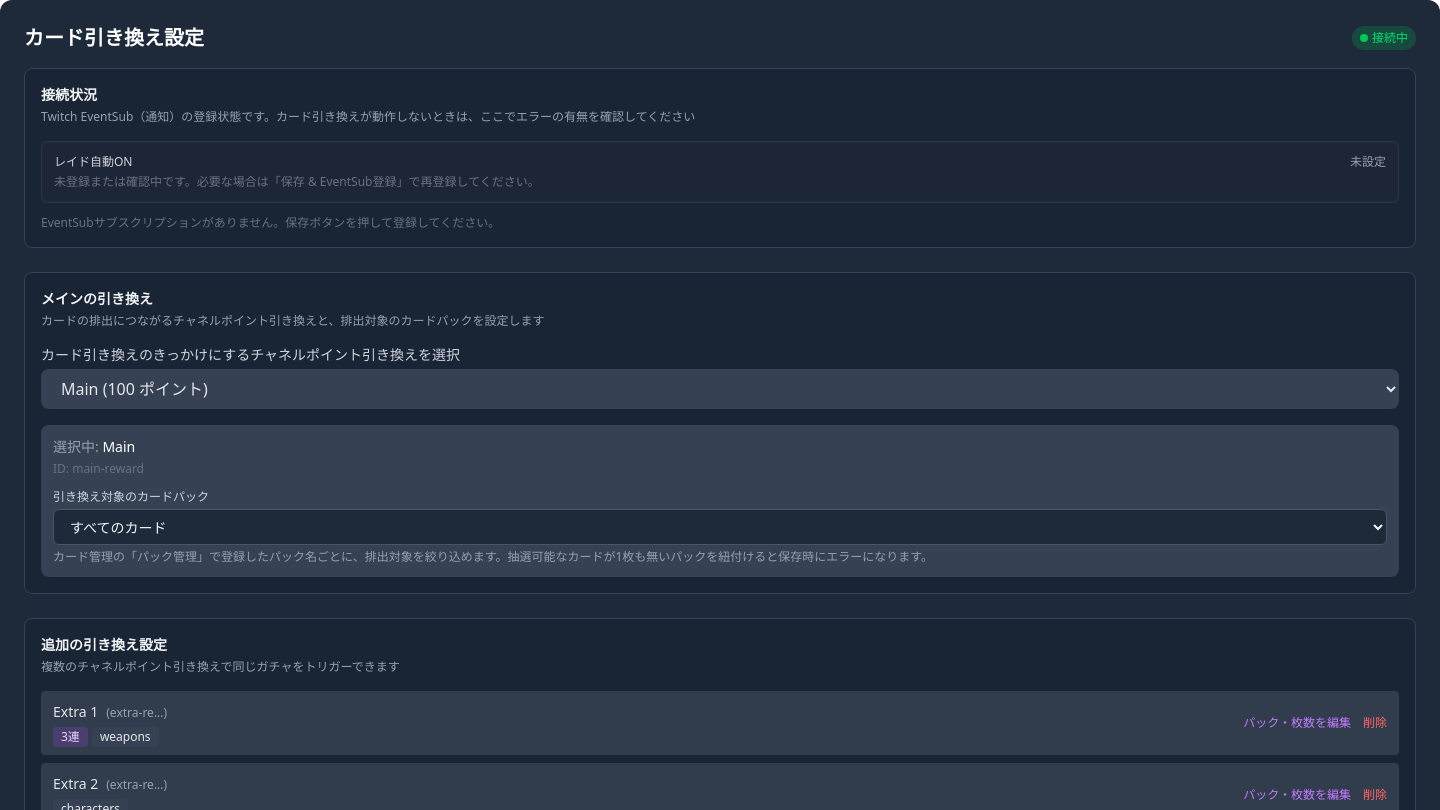
Test case: ChannelPointSettings additional-reward edit race › keeps a newly opened reward editor when an earlier PUT finishes with 404
The image size is (1440, 810).
Click the button with aria-label "Extra 1のパック・枚数を編集".
click(1297, 723)  # box x1=1243 y1=715 x2=1351 y2=731
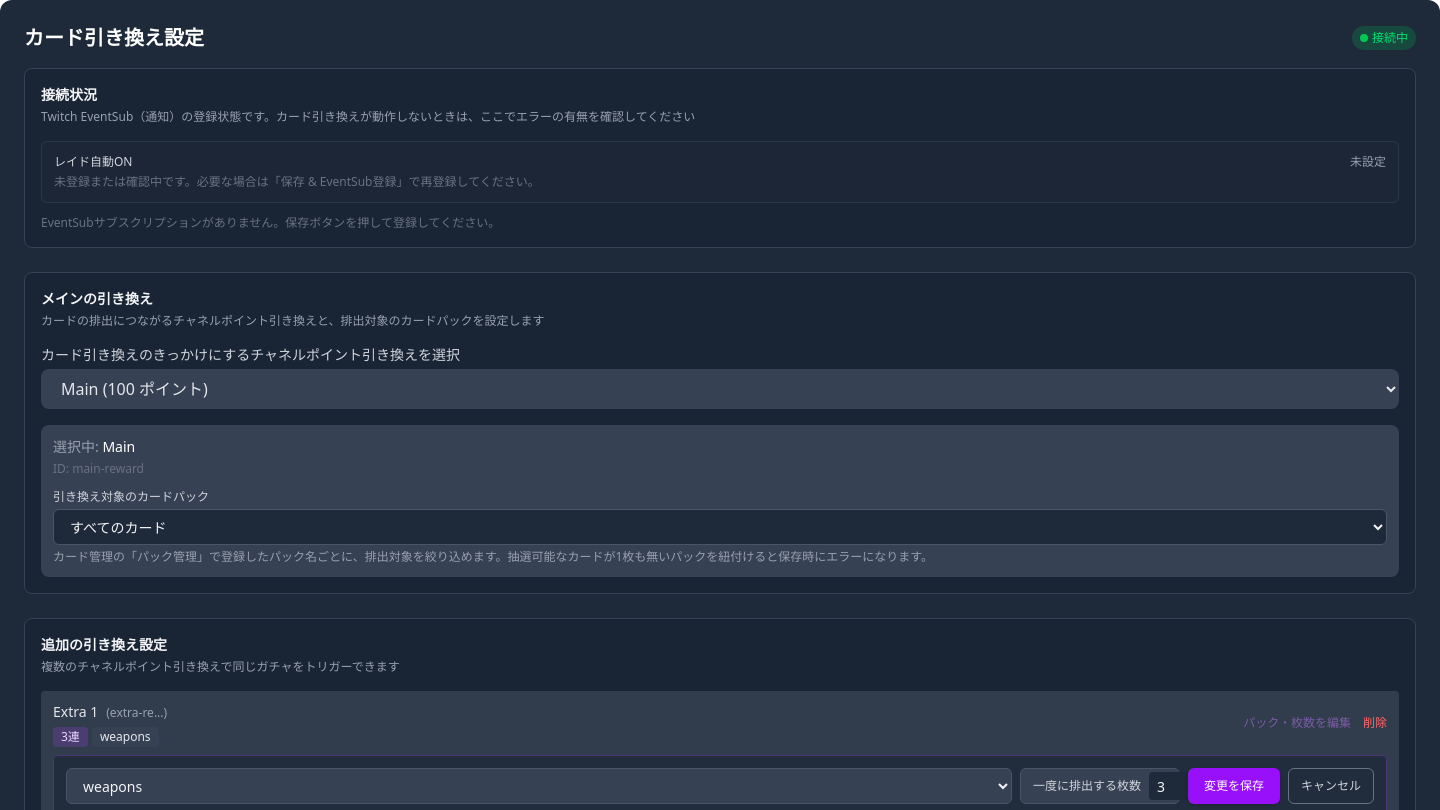
Expected: the dropdown named "編集する引き換えのカードパック" is shown, x1=66 y1=768 x2=1012 y2=804
Click the button "変更を保存".
click(1234, 786)  # box x1=1188 y1=768 x2=1280 y2=804
(page scrolled)
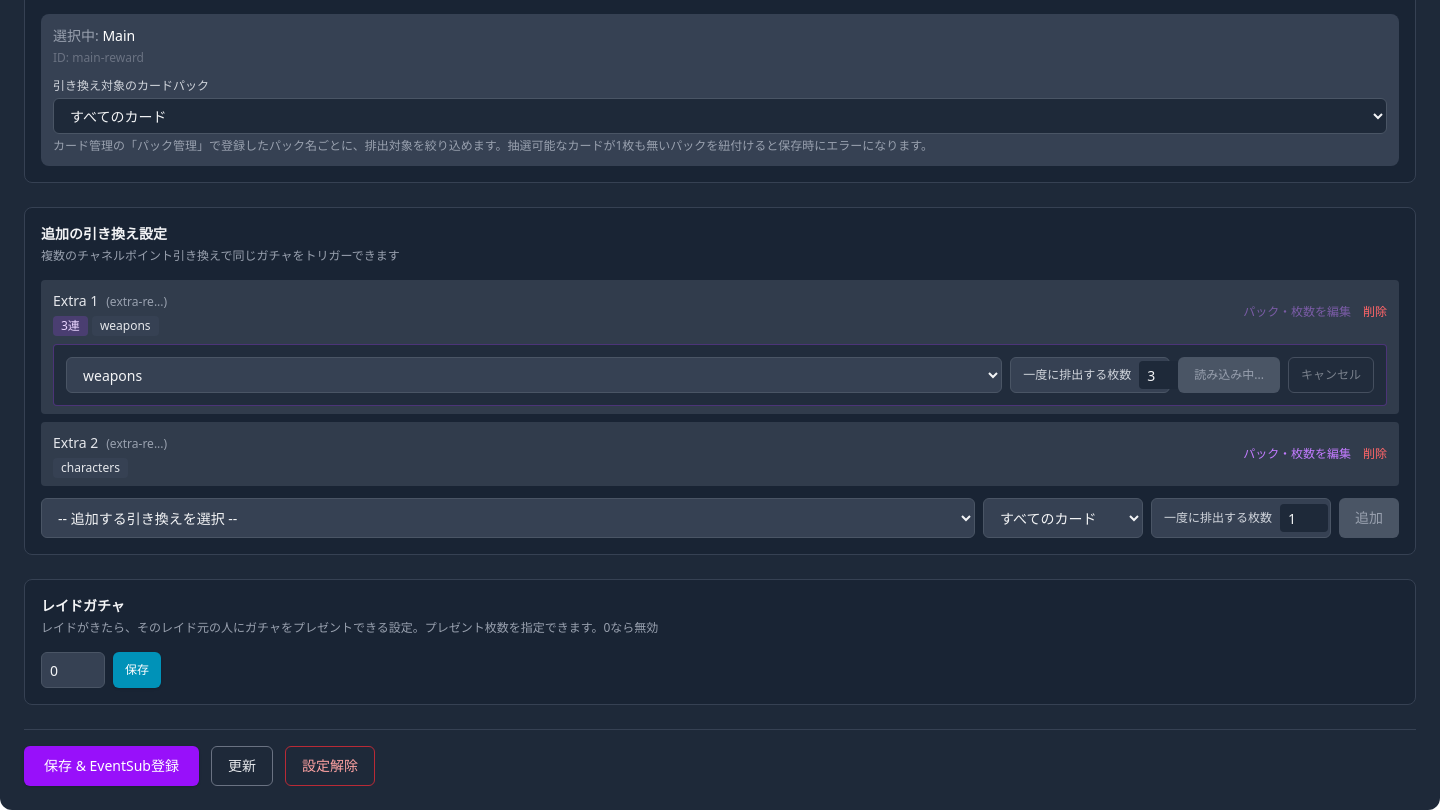
// PUT が未完了の間に別行へ編集対象を切り替える。入力は未変更なので確認ダイアログは不要。
Click the button with aria-label "Extra 2のパック・枚数を編集".
click(1297, 454)  # box x1=1243 y1=446 x2=1351 y2=462
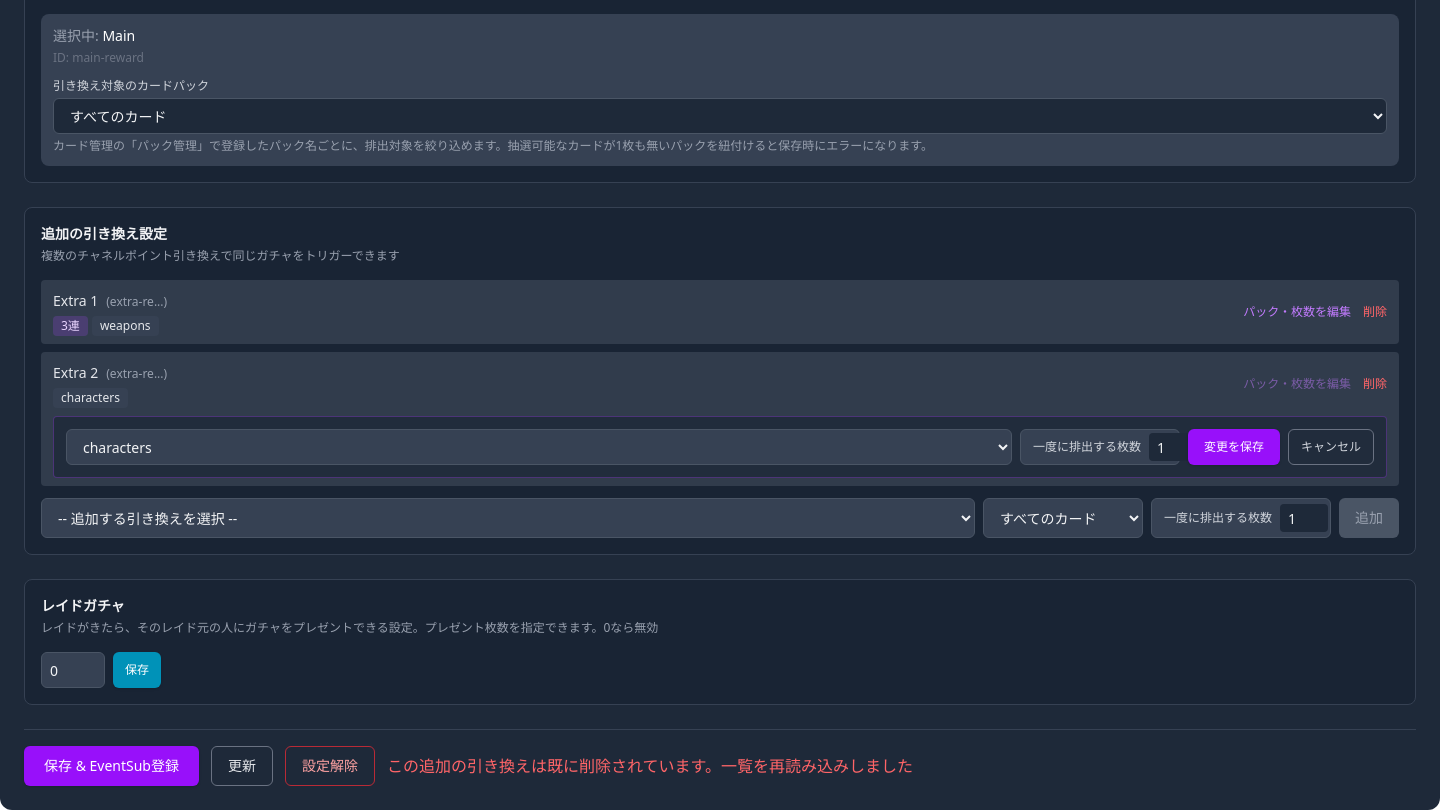
Expected: the number field named "一度に排出する枚数（編集）" holds "1", x1=1149 y1=433 x2=1197 y2=461
Expected: the text "この追加の引き換えは既に削除されています。一覧を再読み込みしました" is shown, x1=387 y1=754 x2=913 y2=778
Expected: the button with aria-label "Extra 2のパック・枚数を編集" is disabled, x1=1243 y1=376 x2=1351 y2=392
